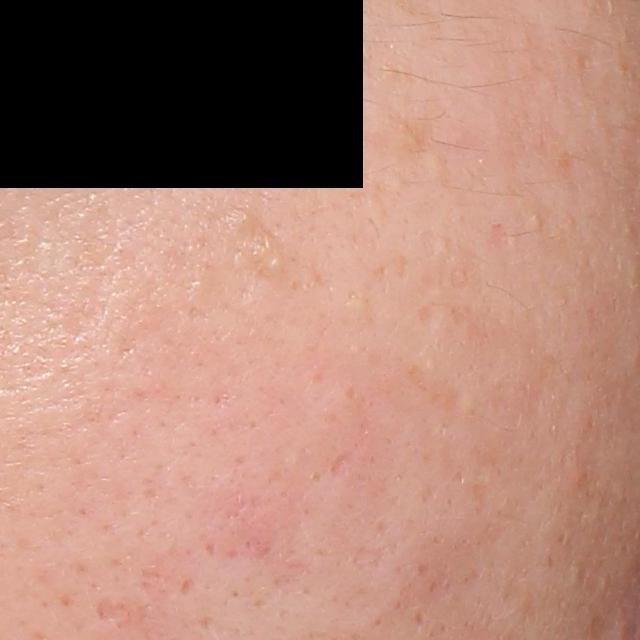atrophic_scar: (92, 596, 148, 638), (325, 447, 360, 480)
comedo: (532, 214, 545, 231)
